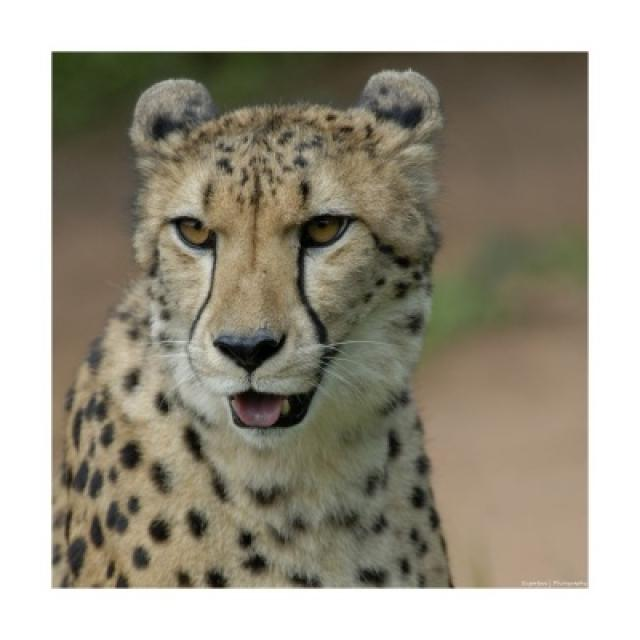Cheetah: (53, 70, 453, 589)
